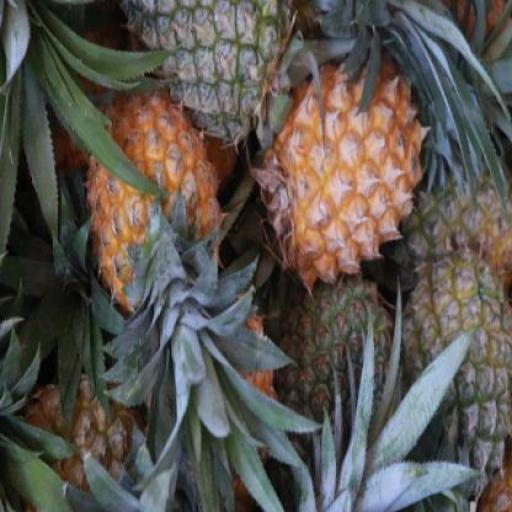------------------------------: (400, 250, 512, 493)
Pineapple - v8 v1: (256, 52, 421, 282), (84, 95, 224, 314)
